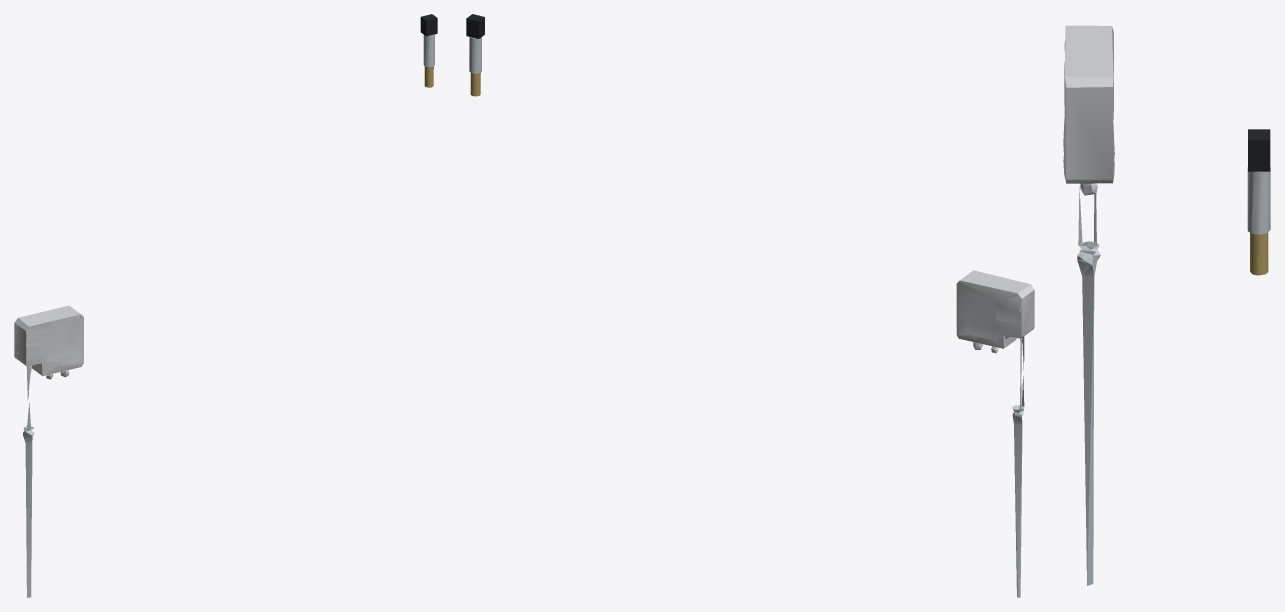
The model's file is trim-comfort.glb.
The picture shows the model from 3 angles, left to right: view 1: azimuth 30°, elevation 25°; view 2: azimuth 150°, elevation 25°; view 3: azimuth 270°, elevation 25°; orthographic projection. The views are drawn at different scales.
Parts seen in each view (by area): view 1: lcs600, pressure_transmitter; view 2: lcs600, pressure_transmitter; view 3: lcs600, pressure_transmitter.
Boxes of the visible parts, left/top/right/bottom form: lcs600: left=14, top=305, right=83, bottom=597; pressure_transmitter: left=420, top=14, right=437, bottom=87; lcs600: left=956, top=270, right=1034, bottom=597; pressure_transmitter: left=466, top=14, right=484, bottom=96; lcs600: left=1063, top=25, right=1114, bottom=585; pressure_transmitter: left=1247, top=129, right=1270, bottom=275.
Size of the model in its own units: 1.38 by 1.27 by 0.2697.
